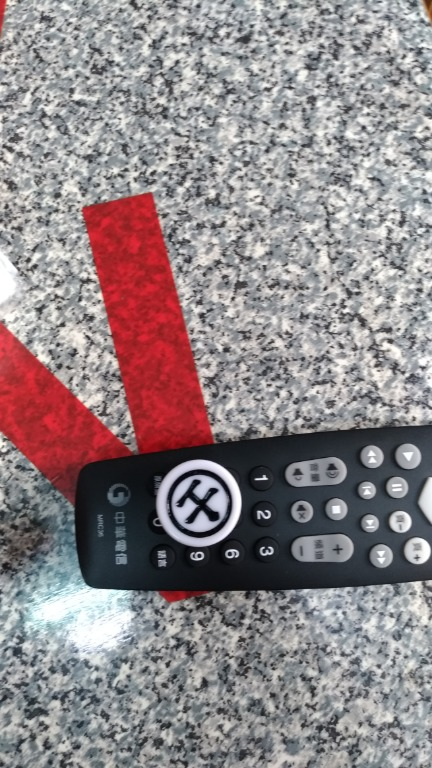b-advisor: (140, 453, 271, 557)
